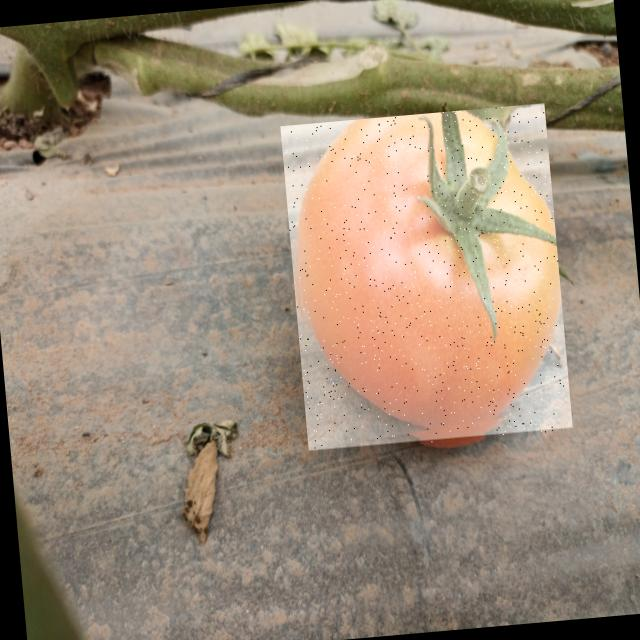Ripe Tomato: (280, 103, 573, 453)
